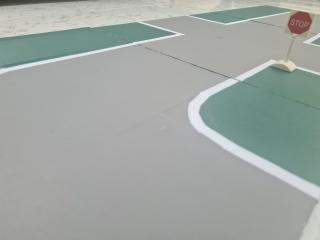stop: (283, 3, 317, 38)
